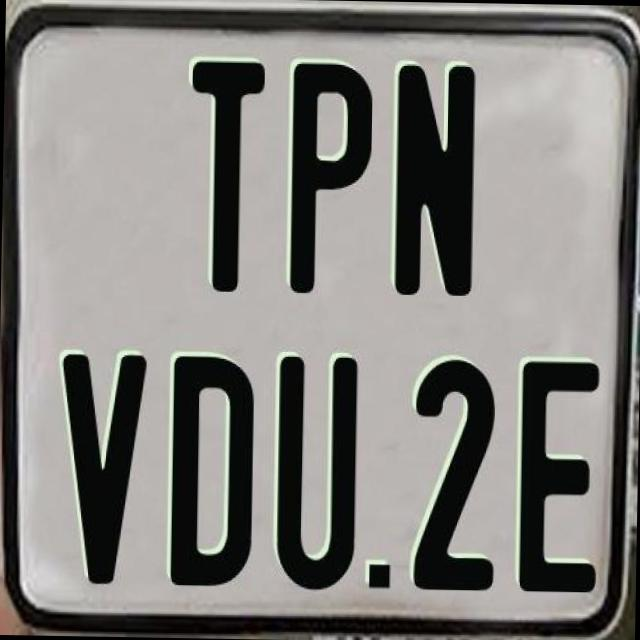2: (408, 358, 499, 596)
D: (168, 353, 255, 592)
E: (518, 361, 606, 594)
N: (392, 64, 480, 302)
P: (288, 60, 376, 295)
T: (188, 55, 268, 288)
U: (276, 351, 364, 591)
V: (56, 353, 148, 589)
